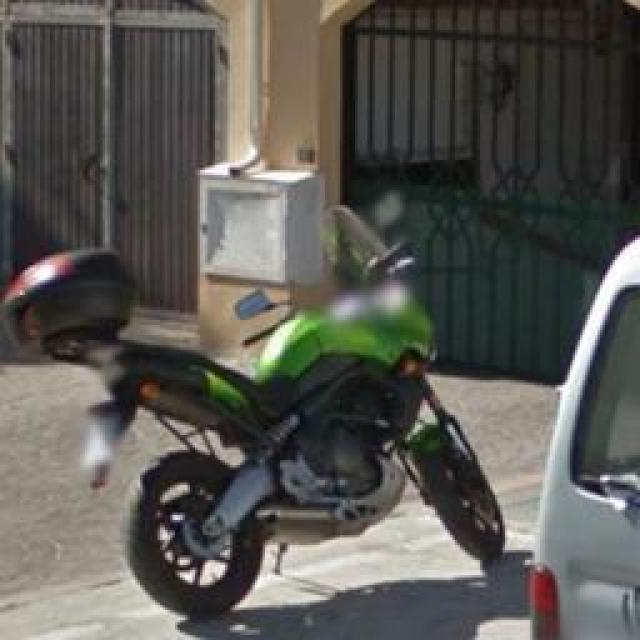car: (526, 226, 640, 640)
motorbike: (24, 202, 508, 612)
